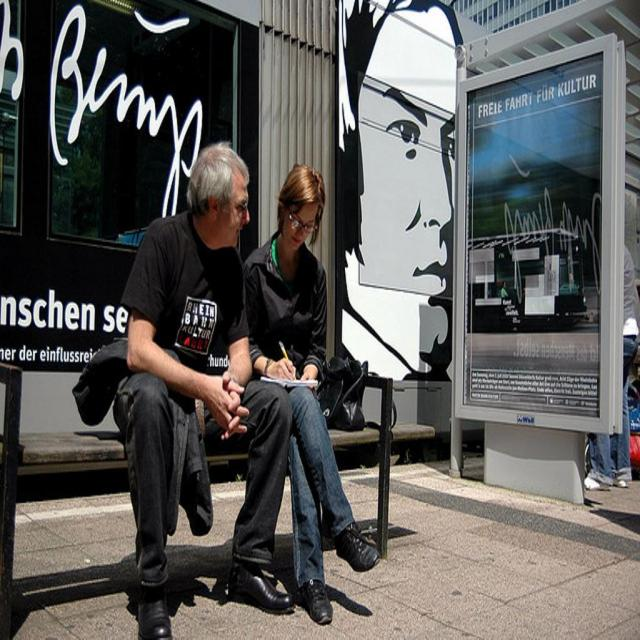nomask: (215, 165, 250, 255), (283, 178, 315, 257)
